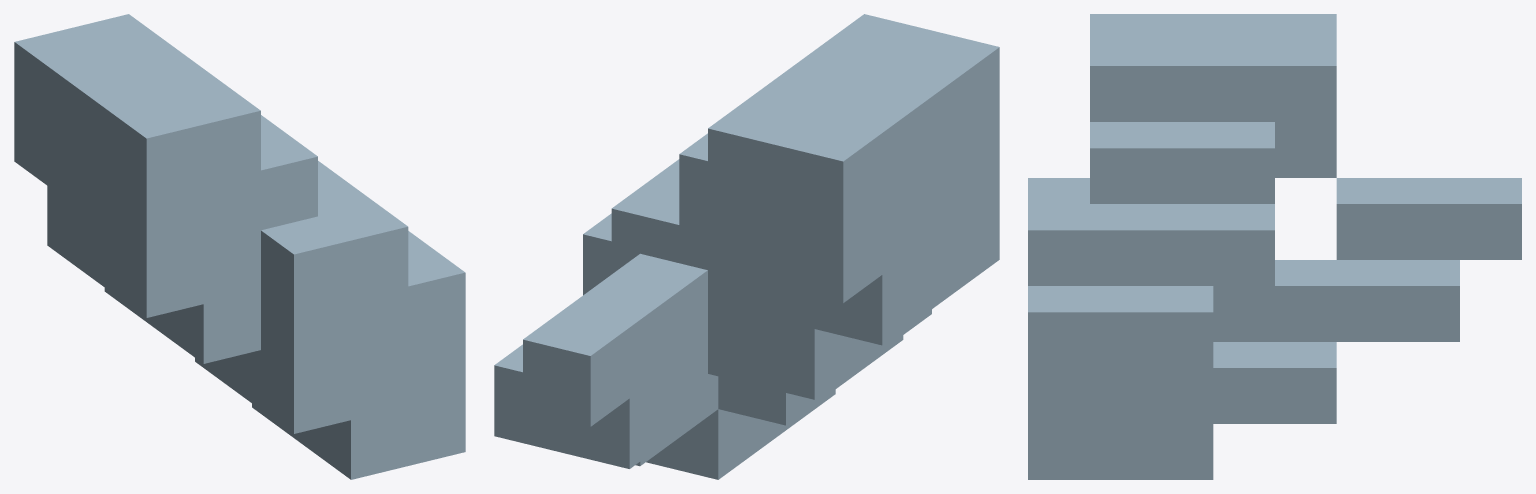
Rendered from bee__wing_r.glb.
The picture shows the model from 3 angles, left to right: view 1: azimuth 30°, elevation 25°; view 2: azimuth 150°, elevation 25°; view 3: azimuth 270°, elevation 25°; orthographic projection. The views are drawn at different scales.
Parts seen in each view (by area): view 1: bee__wing_r; view 2: bee__wing_r; view 3: bee__wing_r.
Boxes of the visible parts, x1,y1,x2,y2 form: bee__wing_r: [14, 14, 465, 479]; bee__wing_r: [494, 14, 999, 479]; bee__wing_r: [1028, 14, 1521, 479].
Bounding box in the file's own units: 0.5 × 0.6 × 0.8.
Materials: 1 (1 with a texture image).
